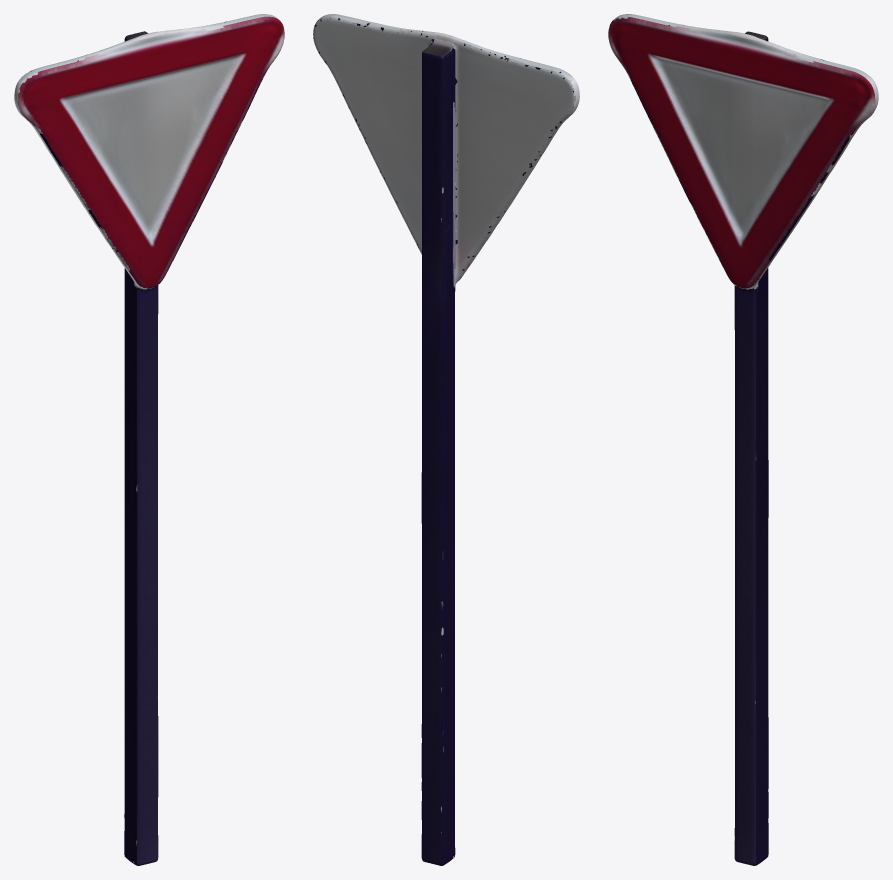
File: yield_traffic_sign.glb
3 views of the same model, side by side, from view 1: azimuth 30°, elevation 25°; view 2: azimuth 150°, elevation 25°; view 3: azimuth 330°, elevation 25° (orthographic).
Parts seen in each view (by area): view 1: tmpveycqxdn.ply; view 2: tmpveycqxdn.ply; view 3: tmpveycqxdn.ply.
Part boxes in pixels (bbox=[...]): tmpveycqxdn.ply: bbox=[14, 14, 284, 865]; tmpveycqxdn.ply: bbox=[313, 14, 579, 865]; tmpveycqxdn.ply: bbox=[608, 14, 878, 865].
Size of the model in its own units: 0.6719 by 1.99 by 0.0808.
1 material, 1 textured.
